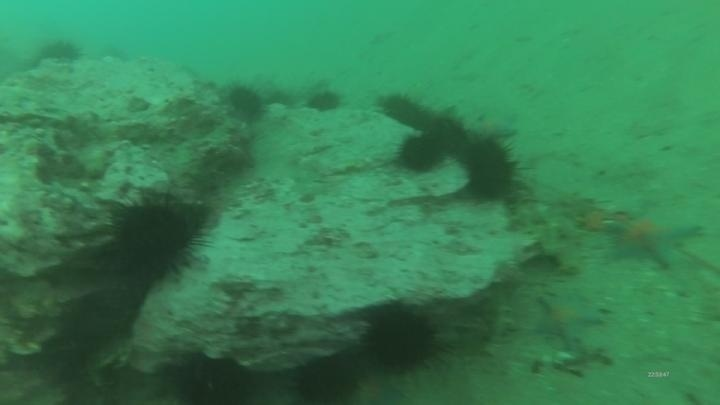echinus: (106, 194, 205, 282), (360, 303, 444, 376), (459, 133, 523, 204), (175, 354, 261, 405), (291, 353, 362, 404), (378, 91, 433, 132), (395, 131, 446, 175), (426, 114, 471, 158), (225, 82, 267, 123), (36, 36, 83, 66), (305, 87, 344, 116), (257, 83, 296, 112)
holothurian: (507, 197, 588, 276), (480, 280, 518, 355)
starfish: (602, 209, 705, 271), (530, 289, 605, 349), (349, 368, 408, 405), (469, 111, 519, 142)
